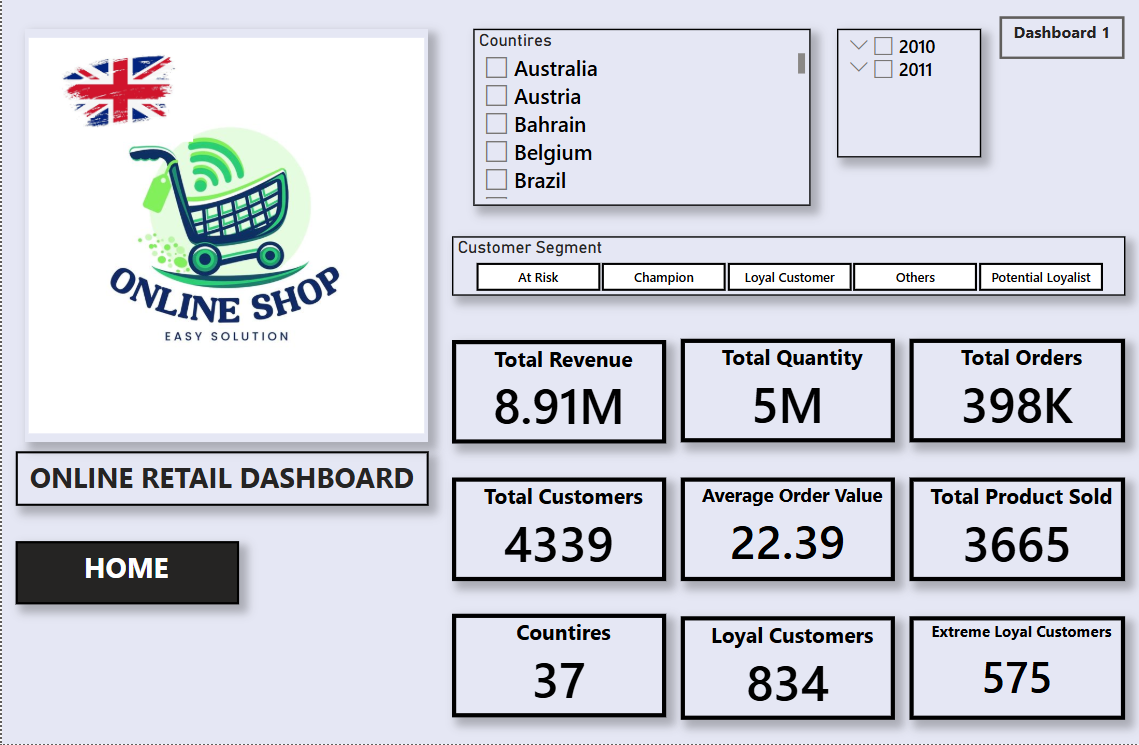

This screenshot's page, from the dashboard's own definition file:
{"tool":"powerbi","page":{"name":"Home Page","canvas":[1300,850],"ordinal":0},"visuals":[{"type":"textbox","box":[15.9,515.4,472.1,62.1],"z":0},{"type":"textbox","box":[15.9,617.9,255.5,72.2],"z":1000},{"type":"card","title":"Total Orders","fields":{"Values":["RFM.Total orders"]},"box":[1036.9,387.4,246.4,118.2],"z":2000},{"type":"card","title":"Average Order Value","fields":{"Values":["RFM.average order value"]},"box":[776.2,545.5,245,118.2],"z":3000},{"type":"card","title":"Total Quantity","fields":{"Values":["RFM.total quantity"]},"box":[776.2,387.4,245,118.2],"z":4000},{"type":"card","title":"Total Customers ","fields":{"Values":["RFM.Unique customers"]},"box":[514.2,545.5,245,118.2],"z":5000},{"type":"card","title":"Total Revenue","fields":{"Values":["cleaned_online_retail.total revenue"]},"box":[514.2,388.8,245,118.2],"z":6000},{"type":"card","title":"Total Product Sold","fields":{"Values":["RFM.total product sold"]},"box":[1036.9,545.5,246.4,118.2],"z":7000},{"type":"card","title":"Countires","fields":{"Values":["RFM.total countires"]},"box":[514.2,700.7,245,118.2],"z":8000},{"type":"card","title":"Loyal Customers","fields":{"Values":["RFM.Loyal Customers Count"]},"box":[776.2,703.6,245,118.2],"z":9000},{"type":"card","title":"Extreme Loyal Customers","fields":{"Values":["RFM.Champions Count"]},"box":[1036.9,703.6,246.4,118.2],"z":10000},{"type":"slicer","title":"Customer Segment","fields":{"Values":["rfm_segments.segment"]},"box":[513.9,270,769.5,67.9],"z":11000},{"type":"slicer","fields":{"Values":["cleaned_online_retail.InvoiceDate.Variation.Date Hierarchy.Year","cleaned_online_retail.InvoiceDate.Variation.Date Hierarchy.Quarter","cleaned_online_retail.InvoiceDate.Variation.Date Hierarchy.Month","cleaned_online_retail.InvoiceDate.Variation.Date Hierarchy.Day"]},"box":[954.2,33.2,164.6,147.2],"z":12000},{"type":"image","box":[26,33.2,462,472.1],"z":13000},{"type":"slicer","title":"Countires ","fields":{"Values":["cleaned_online_retail.Country"]},"box":[538.5,33.2,385.4,202.1],"z":14000},{"type":"textbox","box":[1140.5,18.8,142.9,49.1],"z":14001},{"type":"actionButton","box":[1140.5,18.8,142.9,49.1],"z":14002},{"type":"image","box":[0,43.3,271.4,124.2],"z":14003}]}

Visuals, with their boxes in screenshot pixels (x1, y1, x2, y2), scaled from the page's 1300x850 canvas onto the 1139x745 screenshot:
textbox: [left=14, top=452, right=428, bottom=506]
textbox: [left=14, top=542, right=238, bottom=605]
"Total Orders" card: [left=908, top=340, right=1124, bottom=443]
"Average Order Value" card: [left=680, top=478, right=895, bottom=582]
"Total Quantity" card: [left=680, top=340, right=895, bottom=443]
"Total Customers " card: [left=451, top=478, right=665, bottom=582]
"Total Revenue" card: [left=451, top=341, right=665, bottom=444]
"Total Product Sold" card: [left=908, top=478, right=1124, bottom=582]
"Countires" card: [left=451, top=614, right=665, bottom=718]
"Loyal Customers" card: [left=680, top=617, right=895, bottom=720]
"Extreme Loyal Customers" card: [left=908, top=617, right=1124, bottom=720]
"Customer Segment" slicer: [left=450, top=237, right=1124, bottom=296]
slicer - cleaned_online_retail.InvoiceDate.Variation.Date Hierarchy.Year x cleaned_online_retail.InvoiceDate.Variation.Date Hierarchy.Quarter: [left=836, top=29, right=980, bottom=158]
image: [left=23, top=29, right=428, bottom=443]
"Countires " slicer: [left=472, top=29, right=809, bottom=206]
textbox: [left=999, top=16, right=1124, bottom=60]
actionButton: [left=999, top=16, right=1124, bottom=60]
image: [left=0, top=38, right=238, bottom=147]
